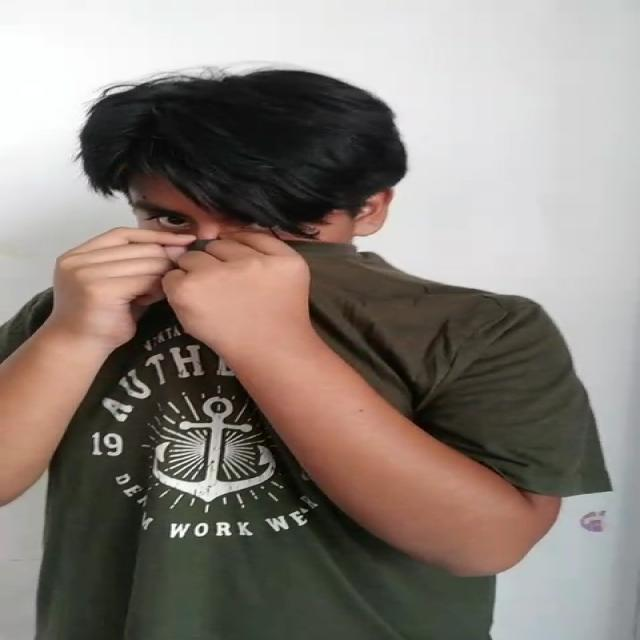8_ropa_rostro: (98, 227, 478, 346)
